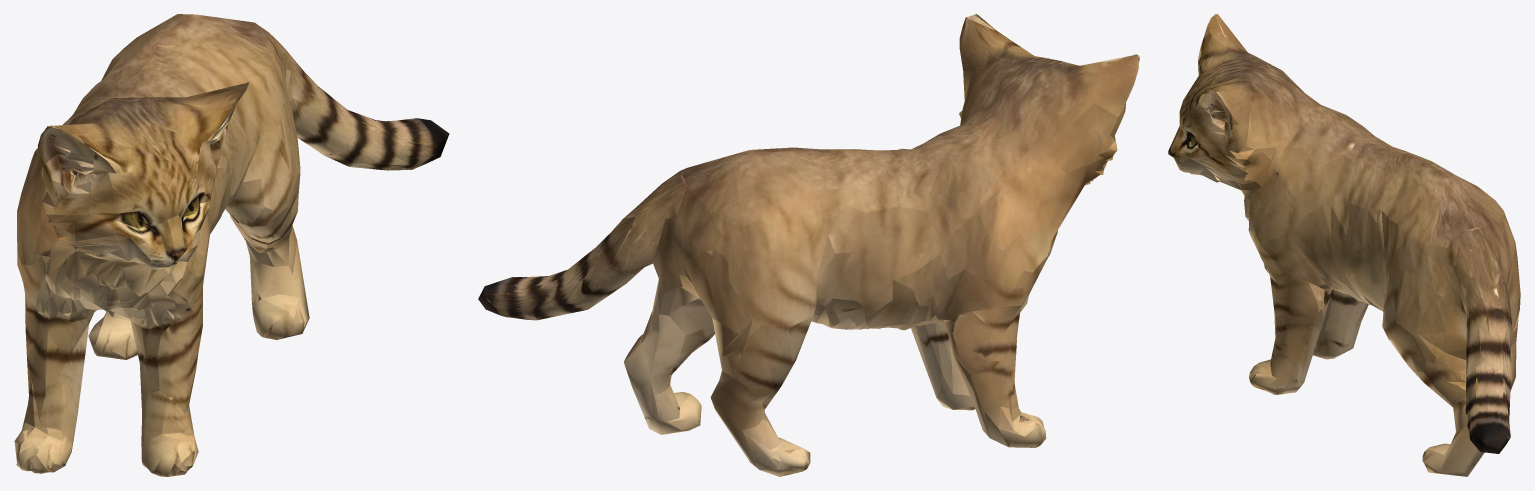
Rendered from sandcat.glb.
3 views of the same model, side by side, from view 1: azimuth 30°, elevation 25°; view 2: azimuth 150°, elevation 25°; view 3: azimuth 270°, elevation 25° (orthographic). The views are drawn at different scales.
Bounding box in the file's own units: 1.89 × 1.29 × 1.29.
Materials: 1 (1 with a texture image).
